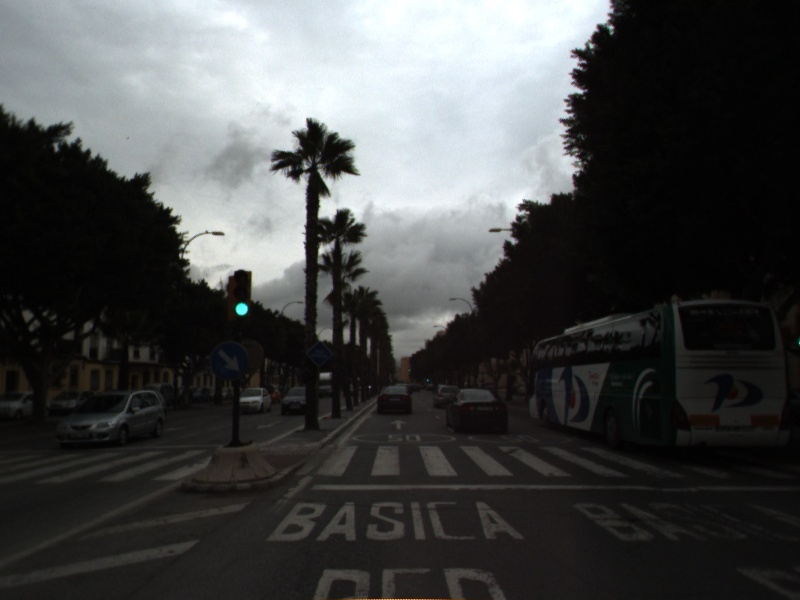STRAIGHT: (388, 417, 409, 432)
